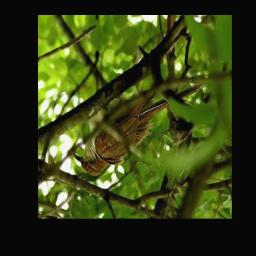Cuckoo: (73, 82, 204, 178)
